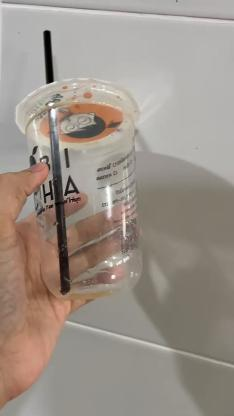Plastic Cup: (11, 75, 149, 297)
